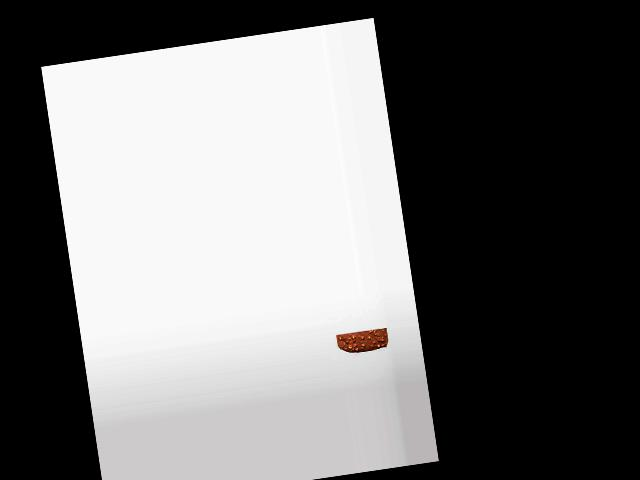chocolate: (335, 325, 389, 359)
